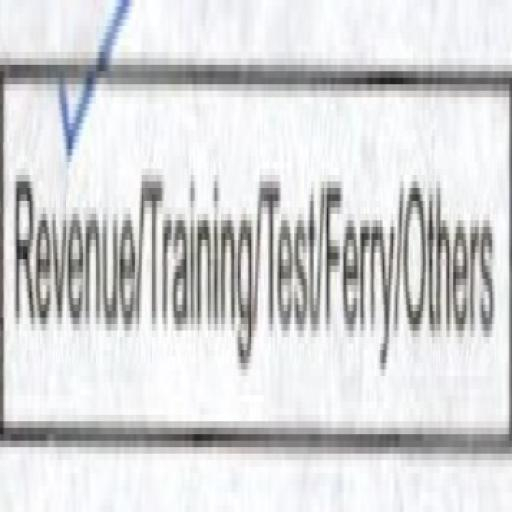check: (2, 0, 136, 499)
